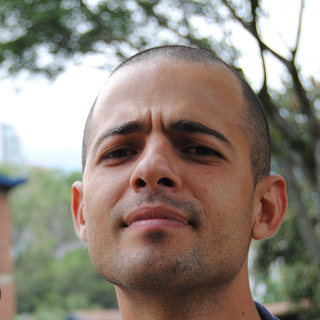eye: (179, 140, 227, 165), (97, 140, 140, 165)
